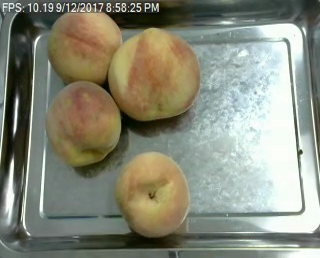Peach: (108, 27, 199, 120), (45, 79, 122, 167), (115, 151, 190, 237), (46, 7, 122, 85)
